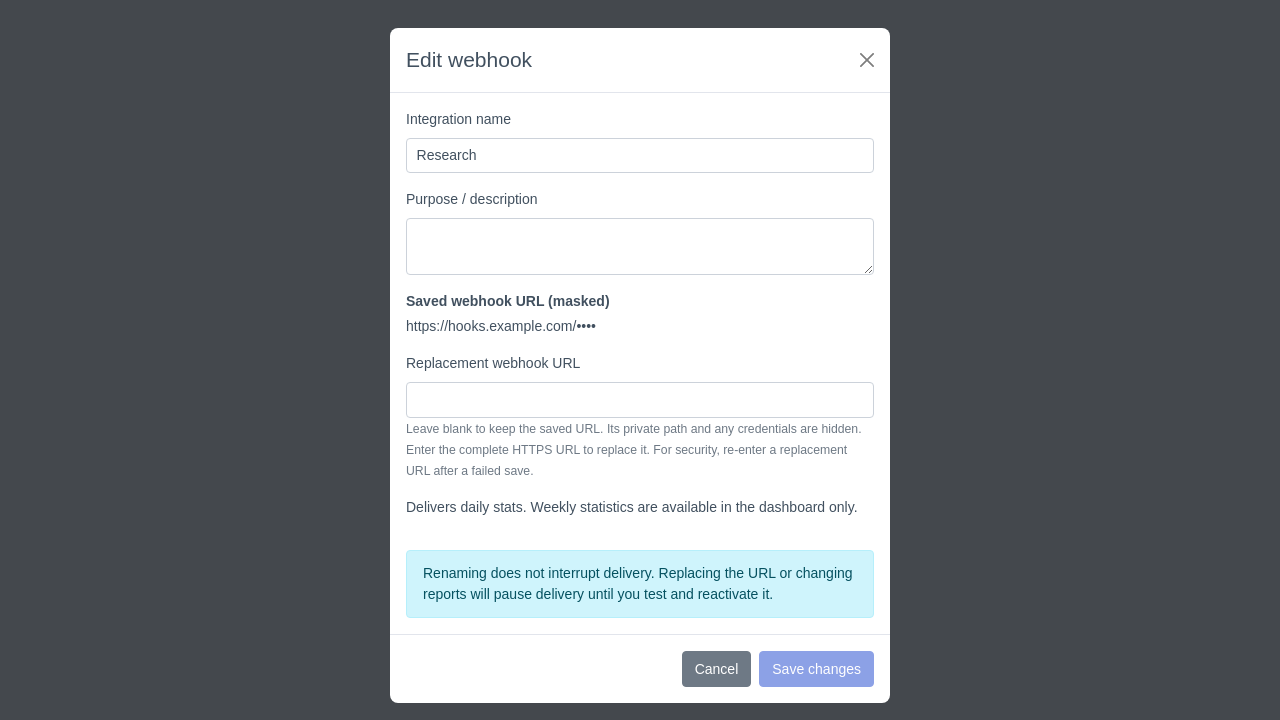
Scenario: keeps the editor open and reports stale edits without exposing raw errors
Replace the text in the field labelled "Integration name" with "New name" at {"x": 640, "y": 156}, box [406, 138, 874, 174]
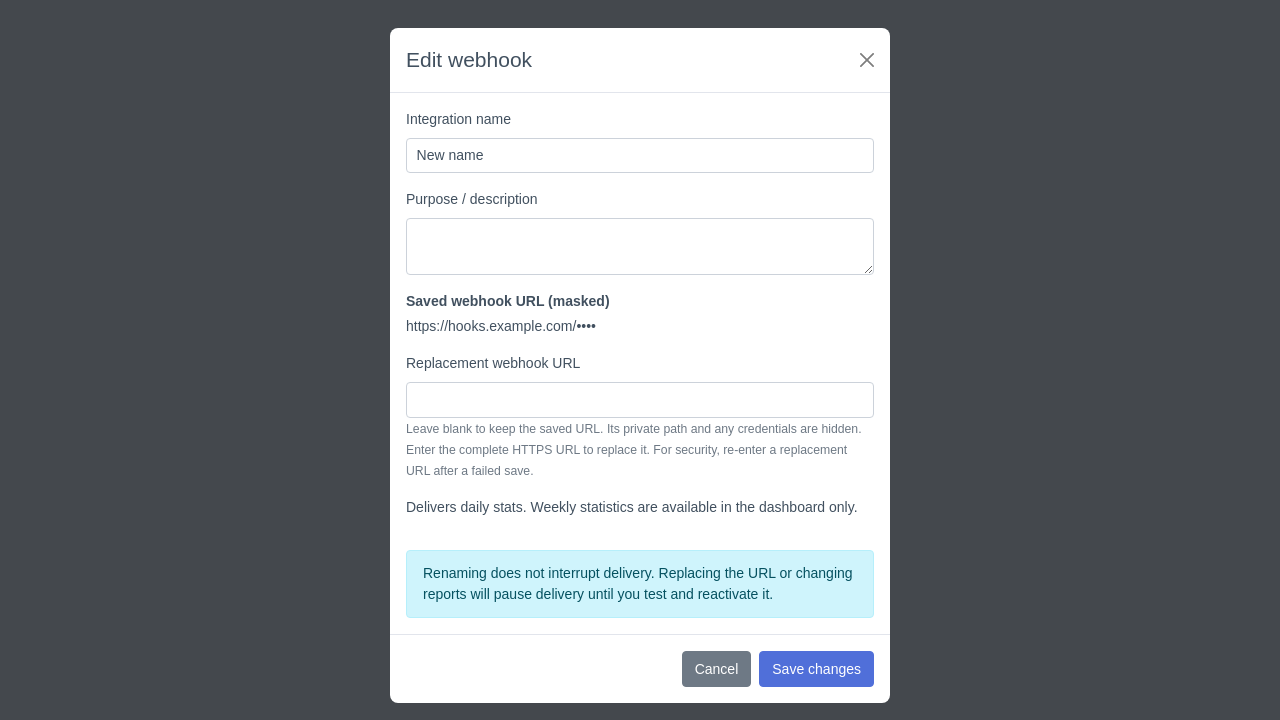
Click the button "Save changes" at {"x": 817, "y": 669}, box [759, 651, 874, 687]
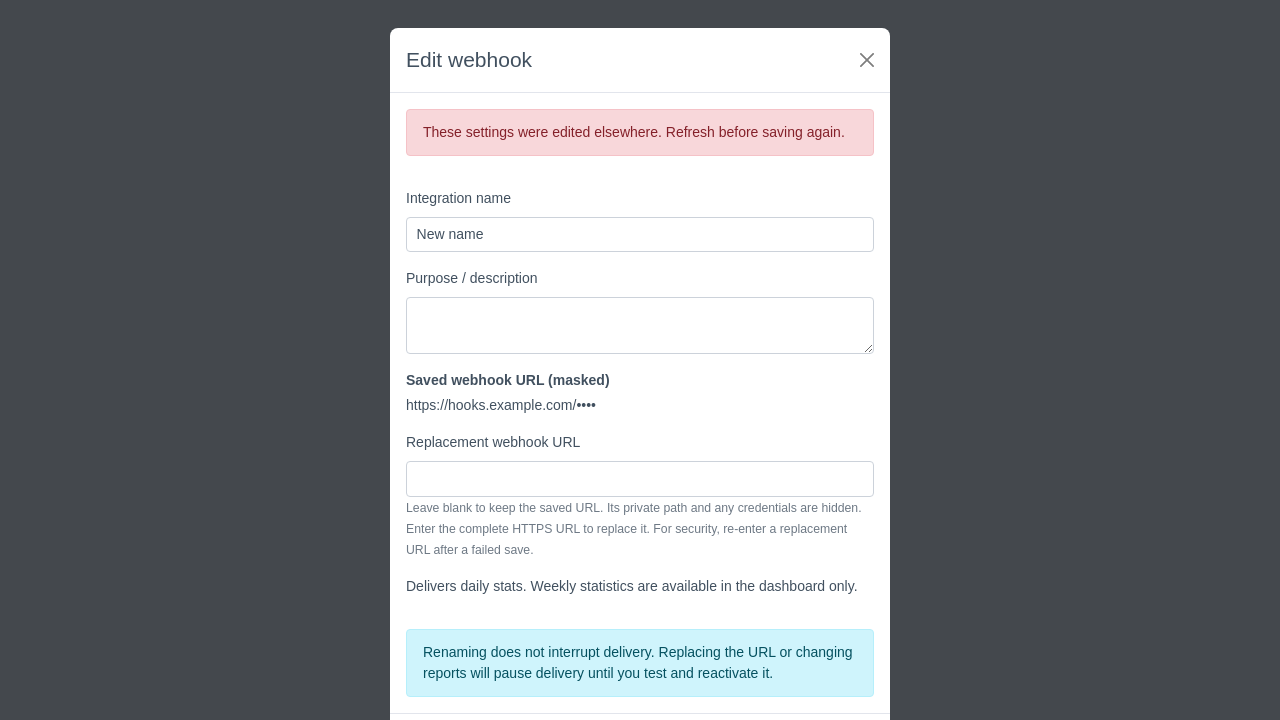
Expected: the text "These settings were edited elsewhere. Refresh before saving again." is shown, [406, 108, 874, 156]
